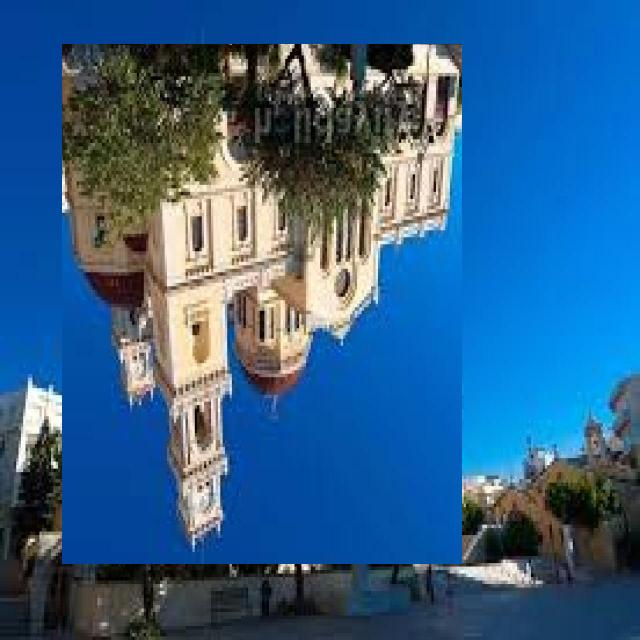Agios Minas: (63, 45, 463, 565)
